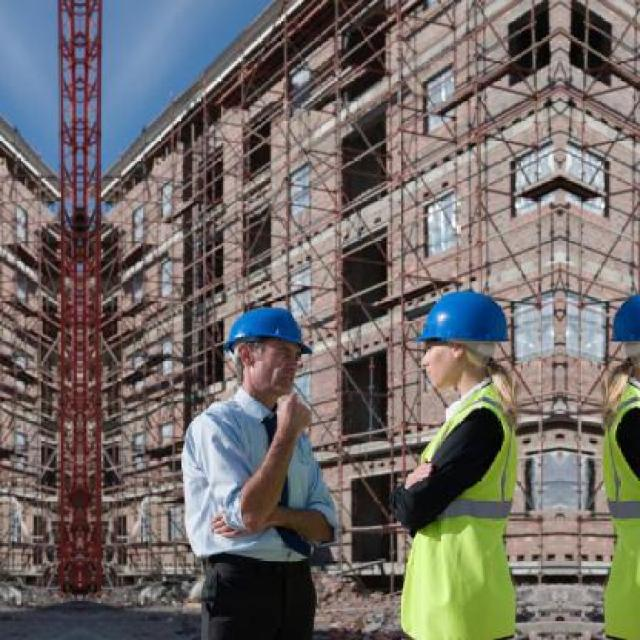helmet: (406, 282, 505, 404), (212, 288, 311, 404), (612, 282, 638, 406)
